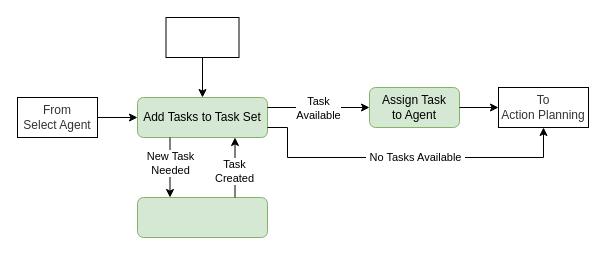
Image size: 606x255. Some labels were removed from this diagram. The centre of each missing label's shape, as x and y in pixels:
Create Task: [202,217]
From Plan Actions: [202,37]
